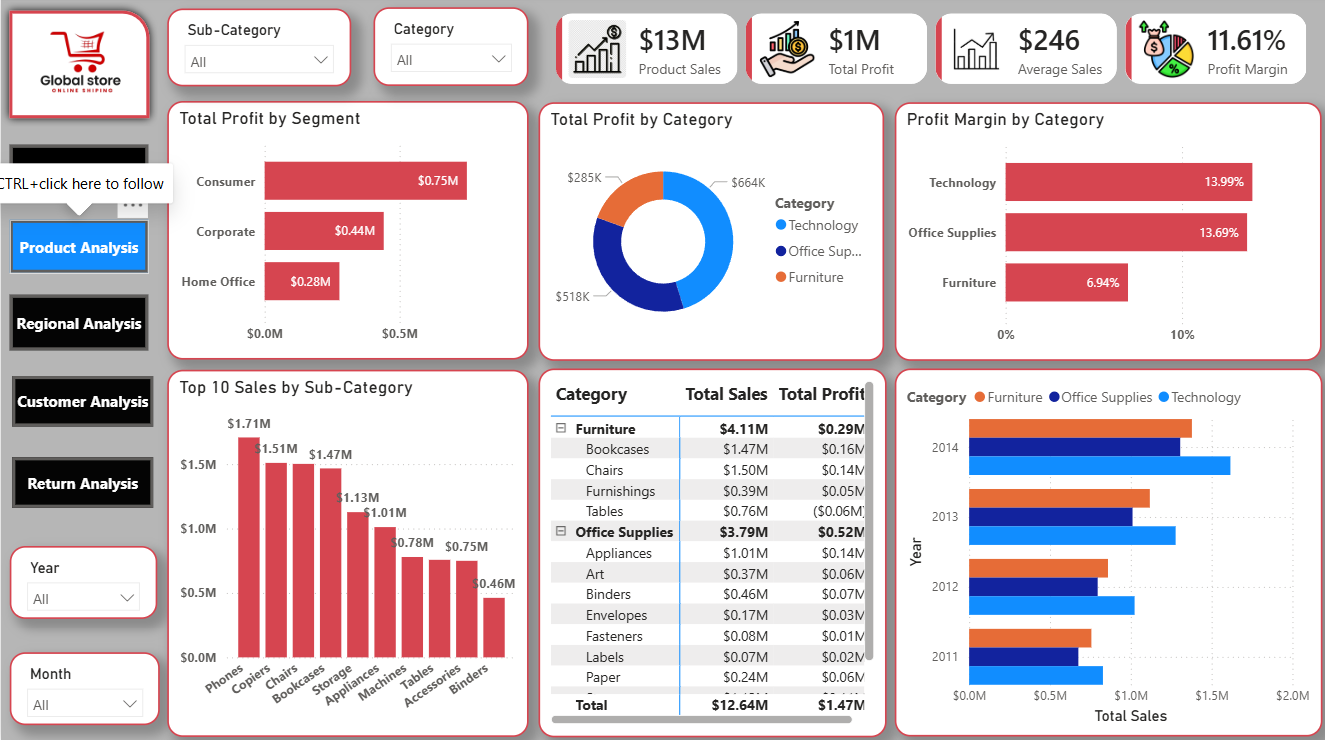

This screenshot's page, from the dashboard's own definition file:
{"tool":"powerbi","page":{"name":"Product Analysis","canvas":[1280,720],"ordinal":1},"visuals":[{"type":"actionButton","box":[8.8,216.2,133.8,51.2],"z":0},{"type":"actionButton","box":[8.8,288.8,133.8,53.8],"z":1000},{"type":"actionButton","box":[11.2,366.2,136.2,48.8],"z":2000},{"type":"actionButton","box":[8.8,143.8,133.8,51.2],"z":3000},{"type":"shape","box":[0,6.2,151.2,120],"z":4000},{"type":"image","box":[11.2,15,131.2,100],"z":5000},{"type":"slicer","fields":{"Values":["Orders.Order Date.Variation.Date Hierarchy.Year"]},"box":[8.8,531.2,142.5,70],"z":6000},{"type":"slicer","fields":{"Values":["Orders.Order Date.Variation.Date Hierarchy.Month"]},"box":[8.8,633.8,145,70],"z":7000},{"type":"actionButton","box":[11.2,445,136.2,48.8],"z":8000},{"type":"group","id":"g1","title":"Group 1","box":[160.5,0,1119.6,715.4],"z":9000},{"type":"cardVisual","fields":{"Data":["Orders.Total Sales","Orders.Total Profit","Orders.Average Sales","Orders.Profit Margin"]},"box":[519.1,0,761,102.4],"z":9000,"group":"g1"},{"type":"actionButton","box":[0,0,100,40],"z":10000},{"type":"clusteredBarChart","title":" Total Profit by Segment","fields":{"Category":["Orders.Segment"],"Y":["Orders.Total Profit"]},"box":[160.5,101.1,348.6,249.7],"z":10000,"group":"g1"},{"type":"donutChart","fields":{"Y":["Orders.Total Profit"],"Category":["Orders.Category"]},"box":[519.1,102.4,333.6,249.7],"z":11000,"group":"g1"},{"type":"clusteredBarChart","fields":{"Category":["Orders.Category"],"Y":["Orders.Profit Margin"]},"box":[862.7,102.4,412.3,249.7],"z":12000,"group":"g1"},{"type":"clusteredColumnChart","title":"Top 10 Sales by Sub-Category","fields":{"Category":["Orders.Sub-Category"],"Y":["Orders.Total Sales"]},"box":[160.5,360.8,348.6,354.6],"z":13000,"group":"g1"},{"type":"pivotTable","fields":{"Rows":["Orders.Category","Orders.Sub-Category"],"Values":["Orders.Total Sales","Orders.Total Profit"]},"box":[519.1,359.6,336.1,355.8],"z":14000,"group":"g1"},{"type":"slicer","fields":{"Values":["Orders.Sub-Category"]},"box":[160.5,12.5,177.4,74.9],"z":15000,"group":"g1"},{"type":"slicer","fields":{"Values":["Orders.Category"]},"box":[359.2,11.2,149.9,76.2],"z":16000,"group":"g1"},{"type":"clusteredBarChart","fields":{"Category":["Orders.Order Date.Variation.Date Hierarchy.Year"],"Y":["Orders.Total Sales"],"Series":["Orders.Category"]},"box":[863.2,359.6,412.8,355.6],"z":17000,"group":"g1"}]}

Visuals, with their boxes in screenshot pixels (x1, y1, x2, y2), scaled from the page's 1280x720 canvas onto the 1325x740 screenshot:
actionButton: box=[9, 222, 148, 275]
actionButton: box=[9, 297, 148, 352]
actionButton: box=[12, 376, 153, 427]
actionButton: box=[9, 148, 148, 200]
shape: box=[0, 6, 157, 130]
image: box=[12, 15, 147, 118]
slicer - Orders.Order Date.Variation.Date Hierarchy.Year: box=[9, 546, 157, 618]
slicer - Orders.Order Date.Variation.Date Hierarchy.Month: box=[9, 651, 159, 723]
actionButton: box=[12, 457, 153, 508]
"Group 1" group: box=[166, 0, 1324, 735]
cardVisual - Orders.Total Sales x Orders.Total Profit: box=[537, 0, 1324, 105]
actionButton: box=[0, 0, 104, 41]
" Total Profit by Segment" clusteredBarChart: box=[166, 104, 527, 361]
donutChart - Orders.Total Profit x Orders.Category: box=[537, 105, 883, 362]
clusteredBarChart - Orders.Category x Orders.Profit Margin: box=[893, 105, 1320, 362]
"Top 10 Sales by Sub-Category" clusteredColumnChart: box=[166, 371, 527, 735]
pivotTable - Orders.Category x Orders.Sub-Category: box=[537, 370, 885, 735]
slicer - Orders.Sub-Category: box=[166, 13, 350, 90]
slicer - Orders.Category: box=[372, 12, 527, 90]
clusteredBarChart - Orders.Order Date.Variation.Date Hierarchy.Year x Orders.Total Sales: box=[894, 370, 1321, 735]
